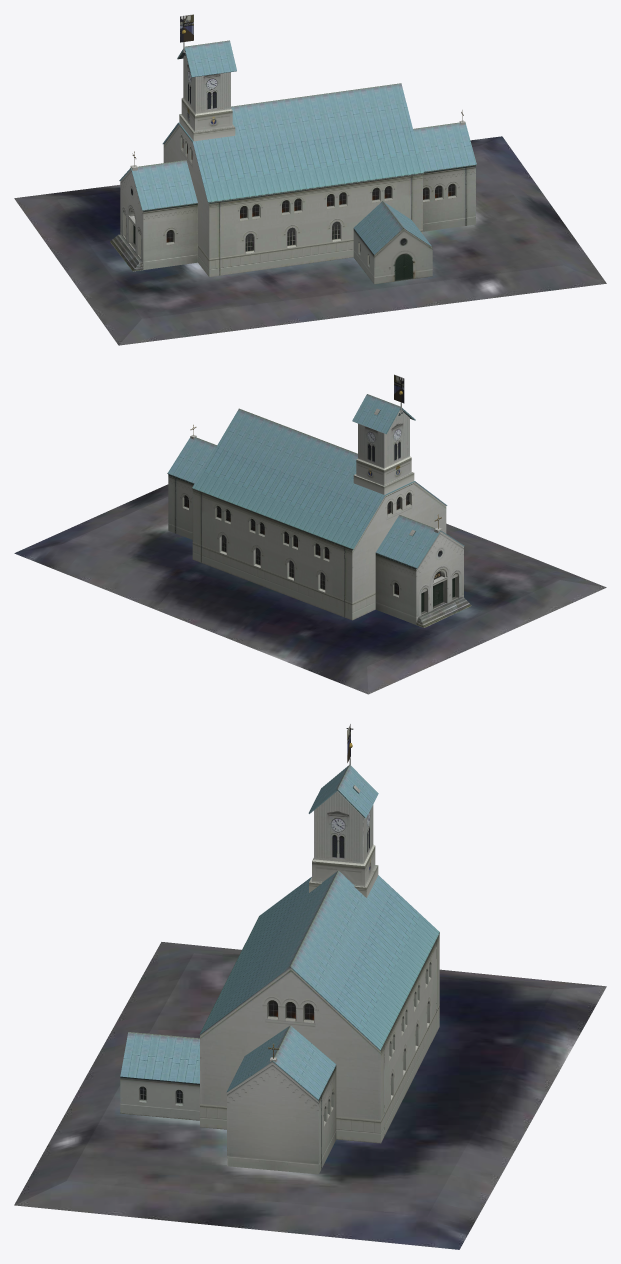
Rendered from warehouse_model.dae.
3 renders of one model, top to bottom at view 1: azimuth 30°, elevation 25°; view 2: azimuth 150°, elevation 25°; view 3: azimuth 270°, elevation 25°, orthographic. The views are drawn at different scales.
Visible parts, largest first — view 1: Model; view 2: Model; view 3: Model.
Part boxes in pixels (<box>): Model: <box>14,14,606,345</box>; Model: <box>14,374,606,694</box>; Model: <box>14,724,606,1249</box>.
Size of the model in its own units: 53.75 by 43.72 by 24.63.
Materials: 25 (23 with a texture image).
